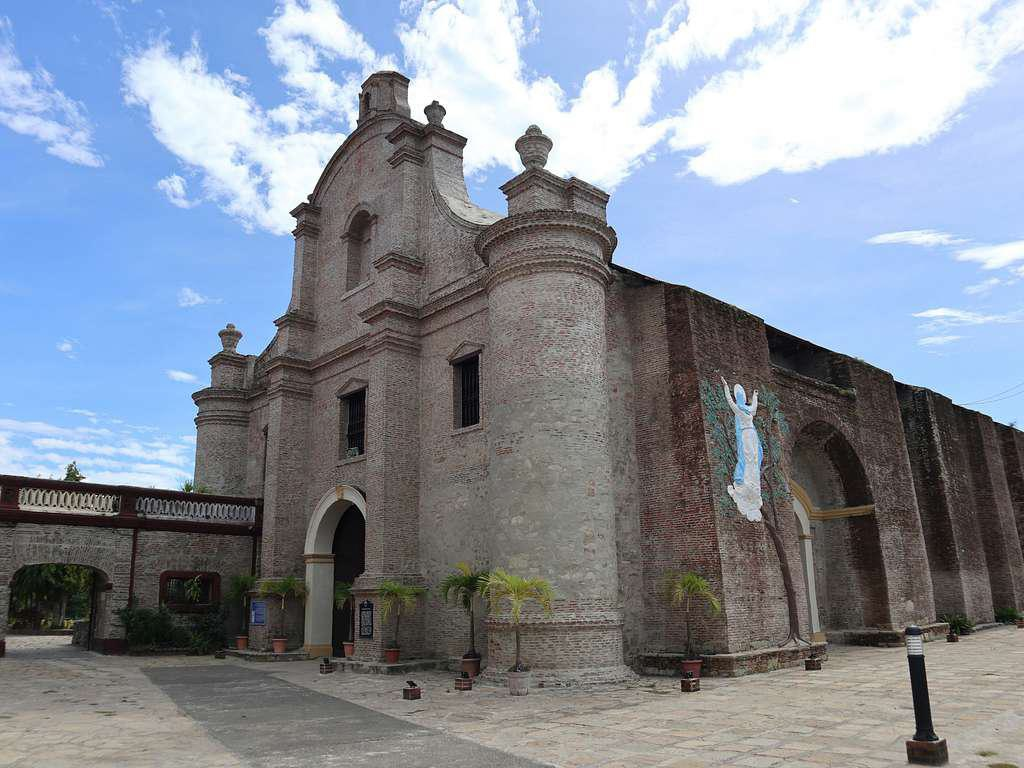santa_maria_church_santa_maria_ilocos_sur: (172, 59, 630, 701)
